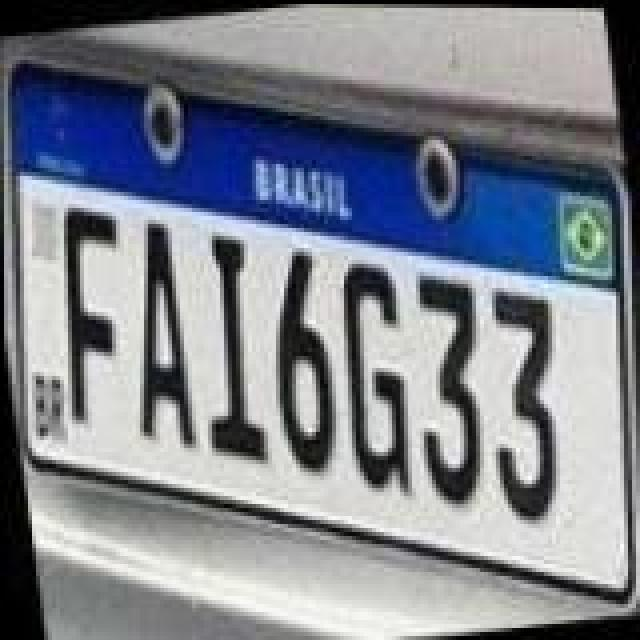3: (470, 274, 586, 530), (398, 266, 506, 514)
6: (254, 244, 346, 476)
A: (108, 216, 204, 452)
F: (38, 194, 146, 418)
G: (322, 258, 422, 502)
I: (180, 224, 276, 468)
